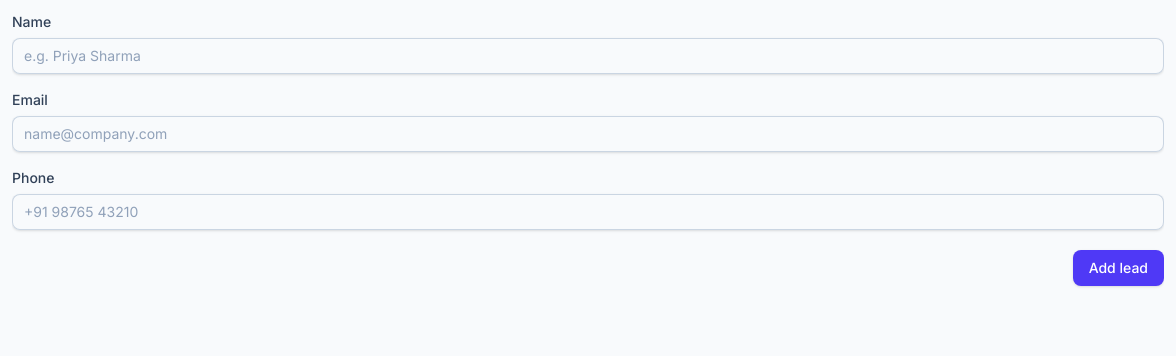
Test: LeadForm › shows the server error when the email already exists
Type "Priya Sharma" into the field labelled "Name".
click(588, 56); type("Priya Sharma")  # box [12, 38, 1164, 74]
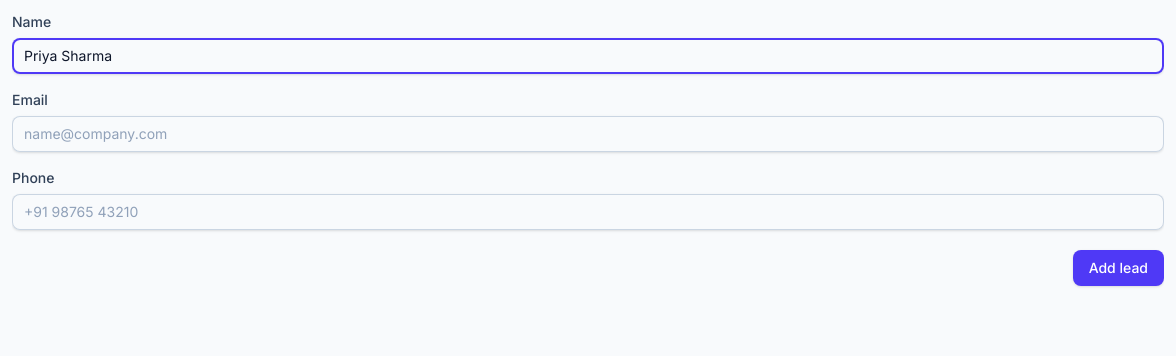
Type "priya@example.com" into the field labelled "Email".
click(588, 134); type("priya@example.com")  # box [12, 116, 1164, 152]
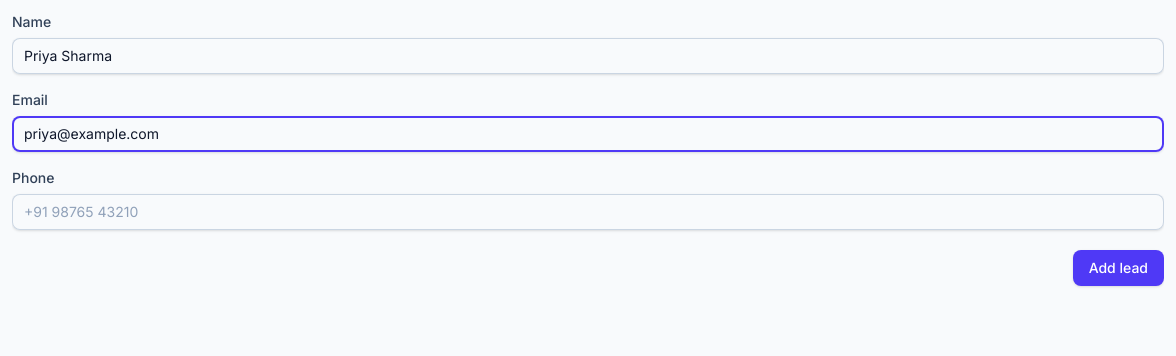
Type "9876543210" into the field labelled "Phone".
click(588, 212); type("9876543210")  # box [12, 194, 1164, 230]
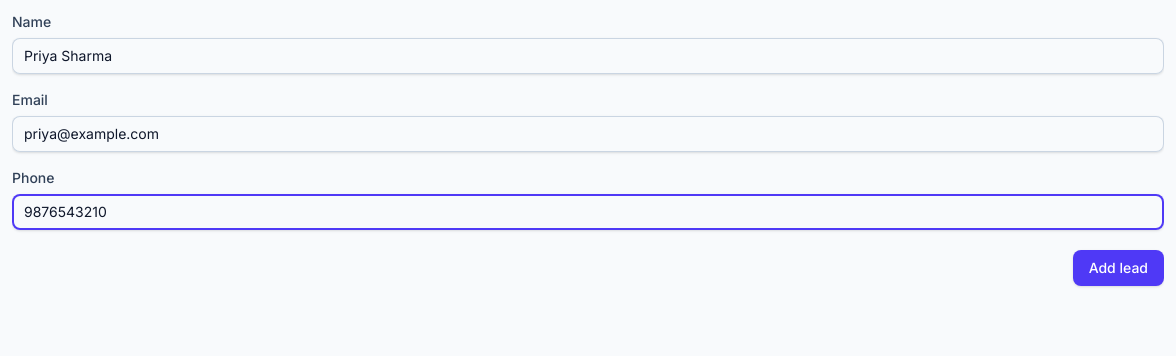
Click the button "Add lead".
click(1118, 268)  # box [1073, 250, 1164, 286]
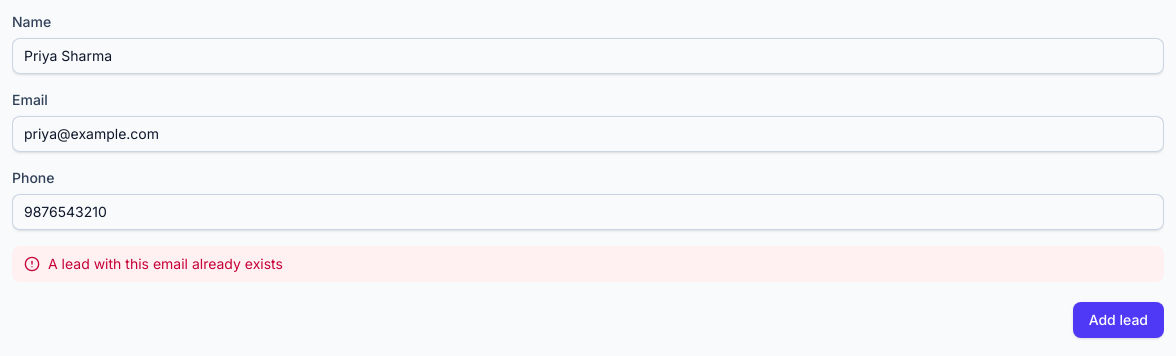
Expected: the message reads "A lead with this email already exists", [48, 255, 283, 272]
